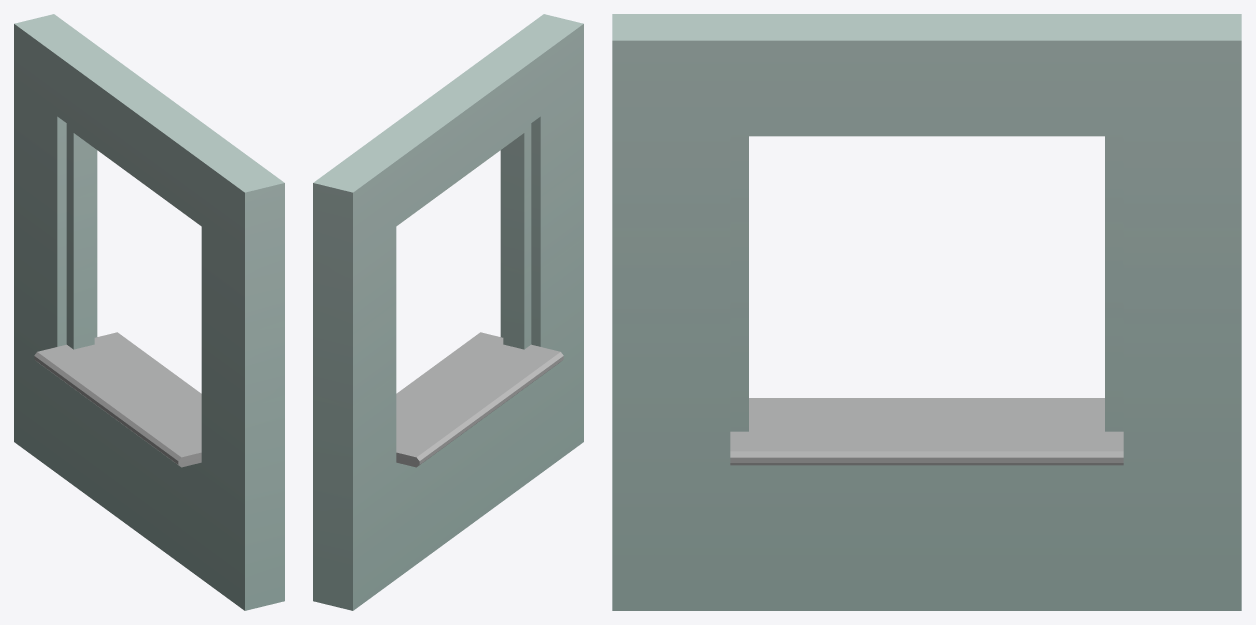
Rendered from wall-food.glb.
The picture shows the model from 3 angles, left to right: view 1: azimuth 30°, elevation 25°; view 2: azimuth 150°, elevation 25°; view 3: azimuth 270°, elevation 25°; orthographic projection. The views are drawn at different scales.
Parts seen in each view (by area): view 1: WallFood.001; view 2: WallFood.001; view 3: WallFood.001.
Part boxes in pixels (box(x1,y1,x2,y2)): WallFood.001: box(14, 14, 284, 610); WallFood.001: box(313, 14, 583, 610); WallFood.001: box(612, 14, 1241, 610).
Bounding box in the file's own units: 0.4321 × 2 × 2.
Materials: 1 (1 with a texture image).
